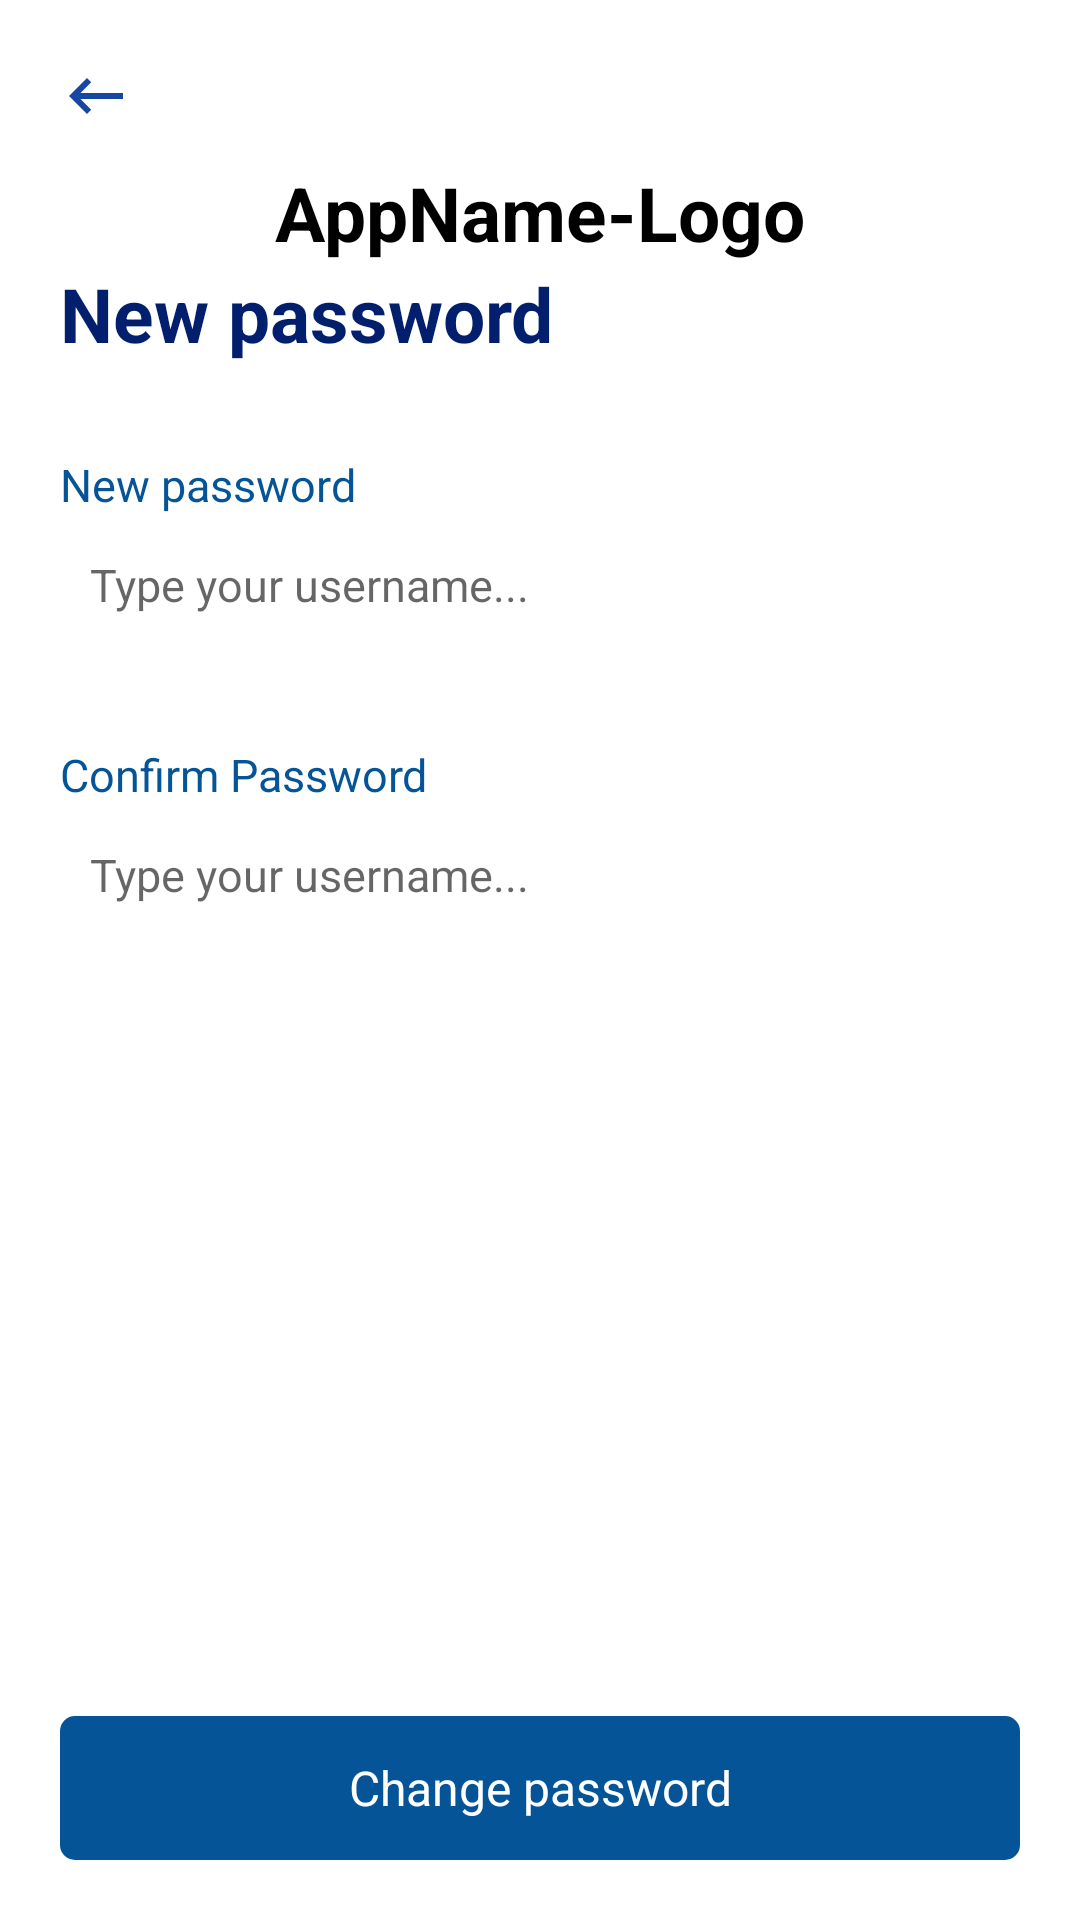

Icon click points for this 1080×1920 phone screenshot, format (x,y):
back: (96,96)
